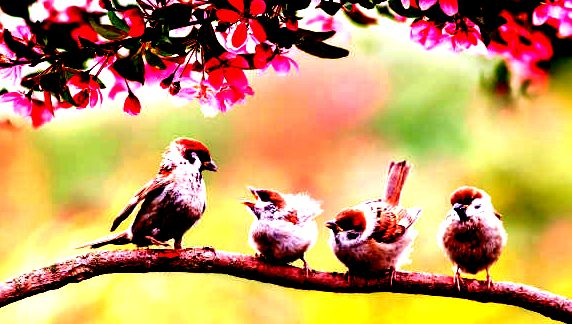Bird: (72, 132, 221, 251), (325, 154, 422, 285), (239, 181, 323, 275), (440, 185, 507, 294)
